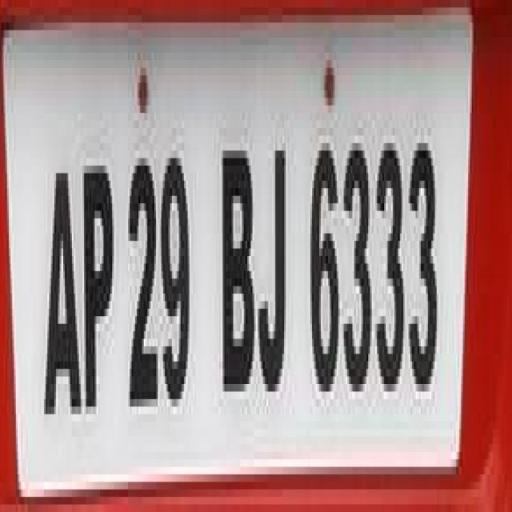number plate: (8, 7, 474, 512)
